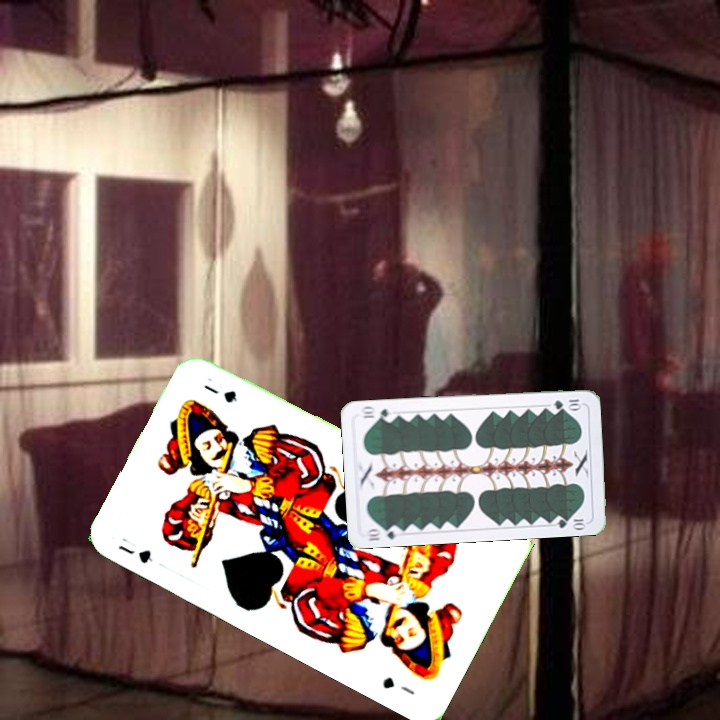G10: (362, 522, 403, 543), (550, 395, 584, 411)
GU: (114, 533, 156, 566)
